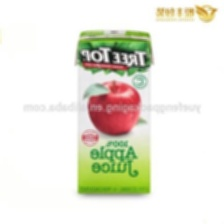carton: (72, 28, 156, 202)
